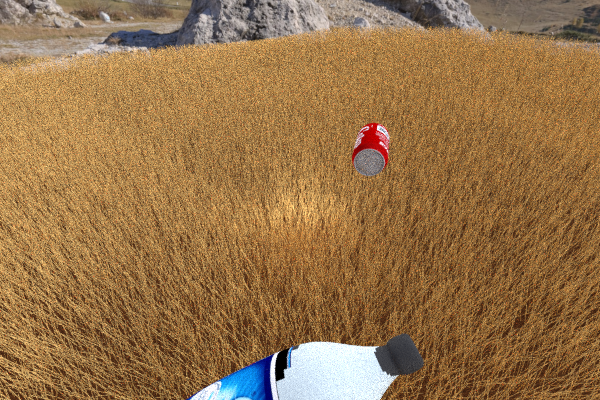Plastic Bottle: (43, 333, 423, 400), (50, 85, 110, 123), (351, 122, 389, 176)
